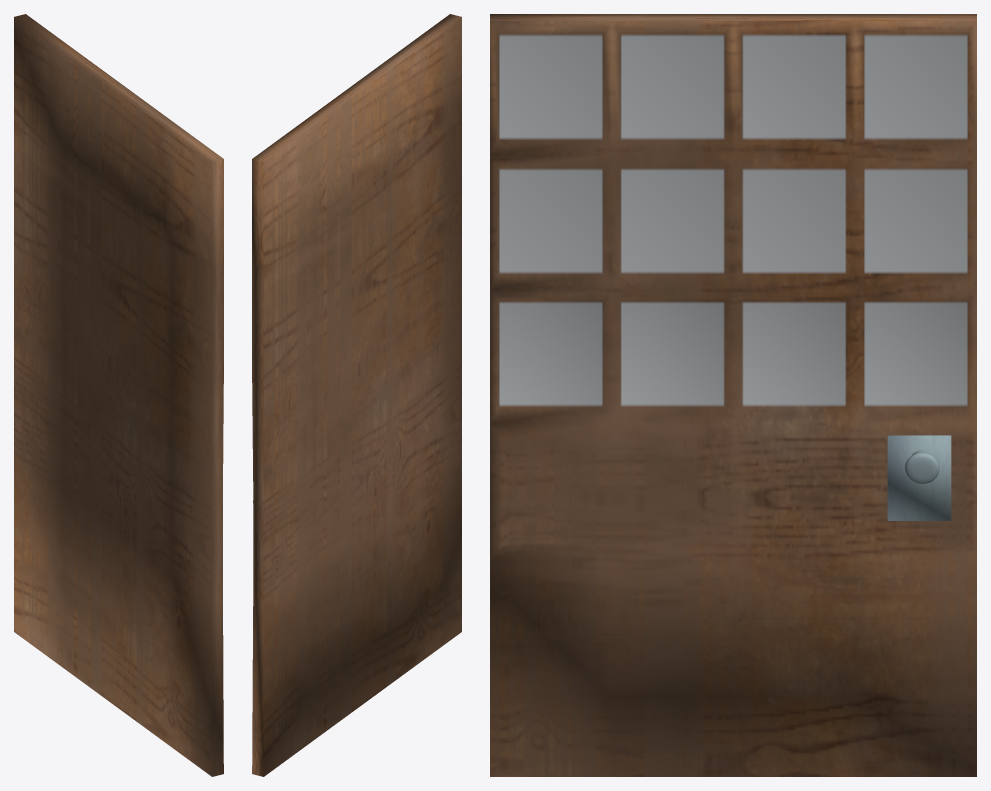
Rendered from porta_PJ_smooth_TEXTURIZADA.fbx.
3 renders of one model, left to right at view 1: azimuth 30°, elevation 25°; view 2: azimuth 150°, elevation 25°; view 3: azimuth 270°, elevation 25°, orthographic. The views are drawn at different scales.
Visible parts, largest first — view 1: porta_pj smooth; view 2: porta_pj smooth; view 3: porta_pj smooth.
Part boxes in pixels (<box>): porta_pj smooth: <box>14,14,223,776</box>; porta_pj smooth: <box>252,14,461,776</box>; porta_pj smooth: <box>490,14,976,776</box>.
Size of the model in its own units: 12.75 by 270 by 157.
1 material, 1 textured.
